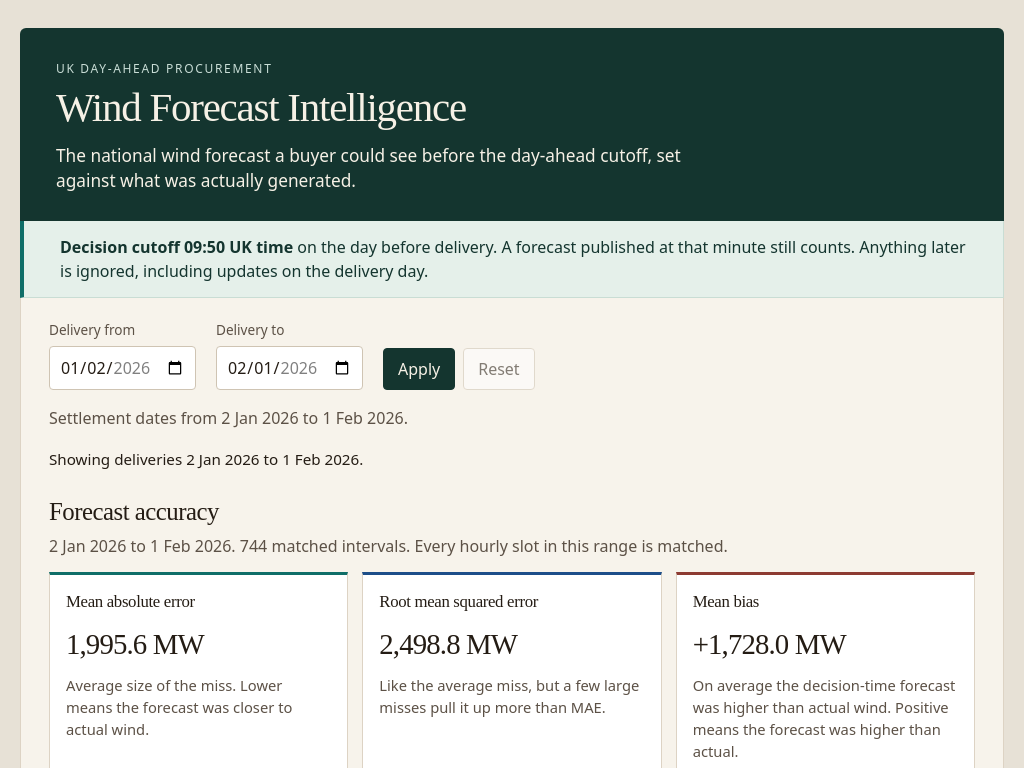
Test: App › toasts a failed refresh and keeps the figures already on screen
The width and height of the screenshot is (1024, 768).
Expected: the text "1,995.6 MW" is shown, top-left (66, 628), bottom-right (204, 660)
In the date field labelled "Delivery from": (122, 368) top-left (49, 346), bottom-right (196, 390), type "2026-01-10"
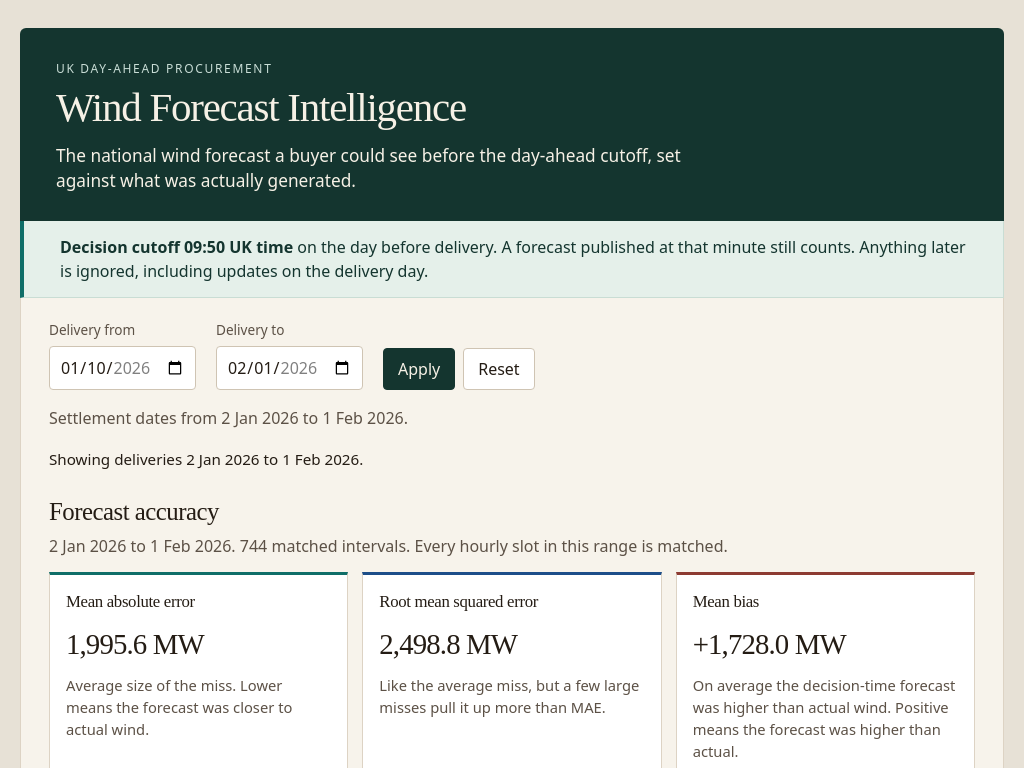
Click the button "Apply": (419, 370) top-left (383, 348), bottom-right (455, 390)
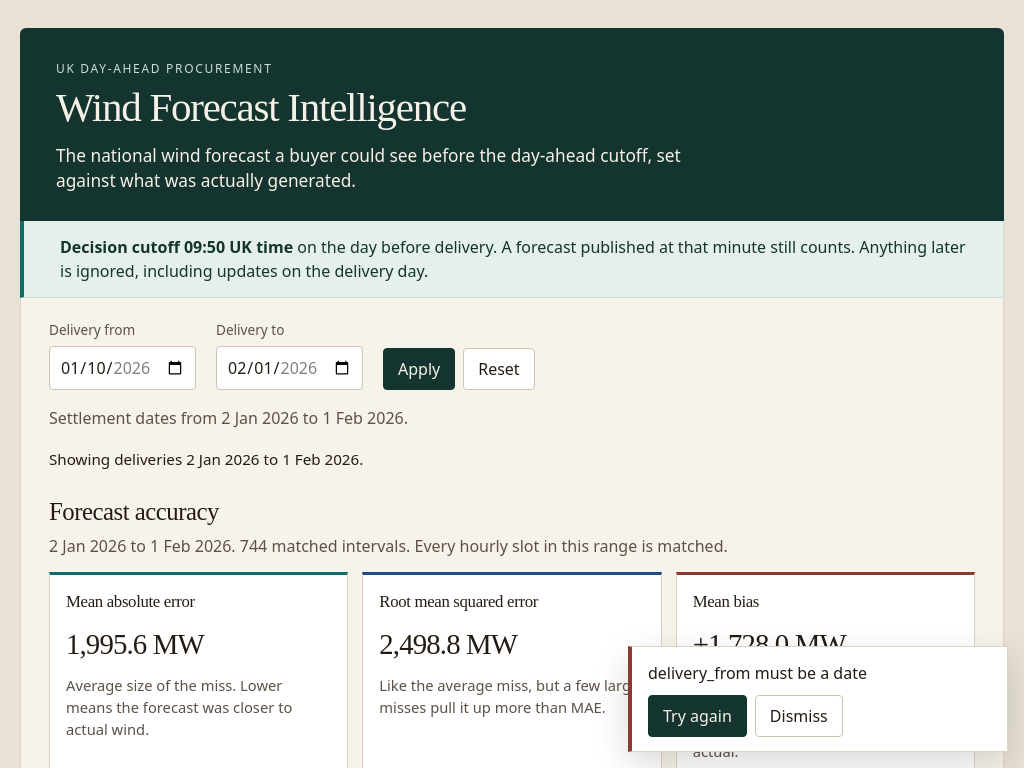
Expected: the text "1,995.6 MW" is shown, top-left (66, 628), bottom-right (204, 660)
Now the message shows "delivery_from must be a date", box top-left (648, 662), bottom-right (867, 684)
Click the button "Dismiss": (799, 716) top-left (755, 695), bottom-right (843, 737)
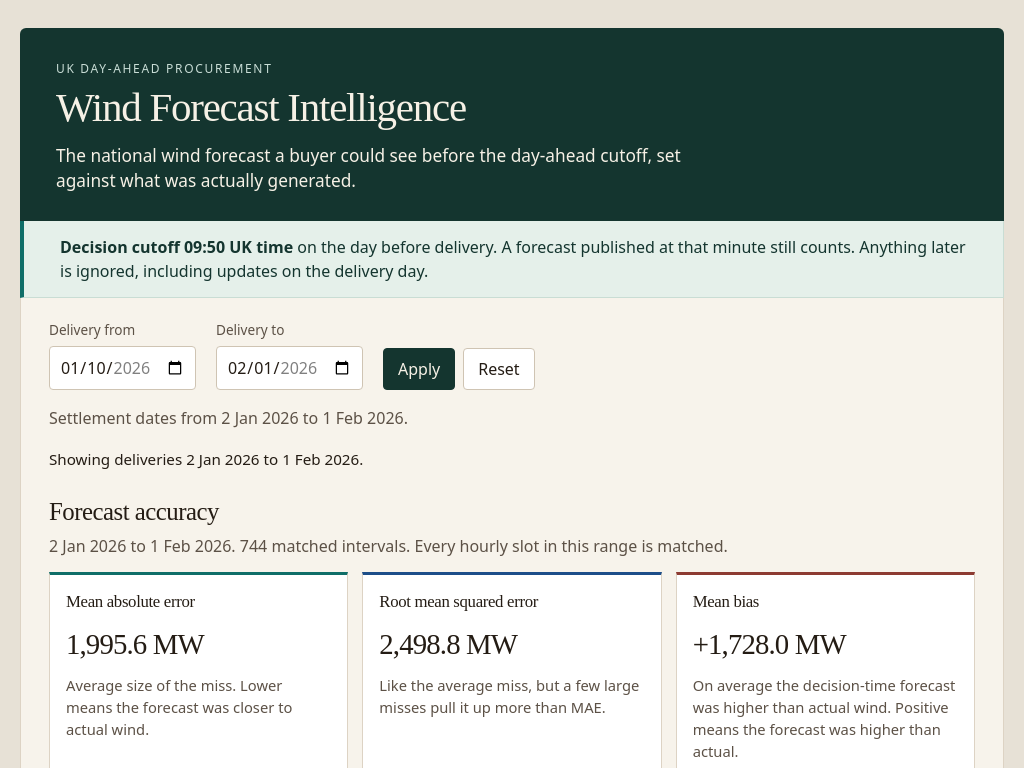
Now the message "delivery_from must be a date Try again Dismiss" is gone
